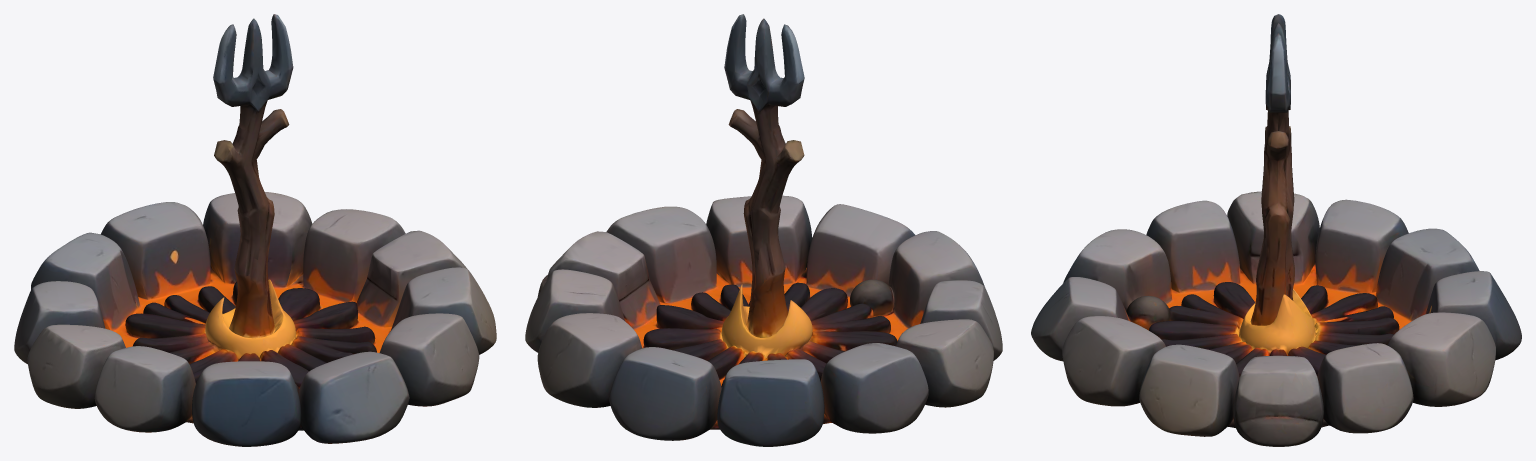
The model's file is goblinfire.opt.glb.
The picture shows the model from 3 angles, left to right: view 1: azimuth 30°, elevation 25°; view 2: azimuth 150°, elevation 25°; view 3: azimuth 270°, elevation 25°; orthographic projection. The views are drawn at different scales.
Parts seen in each view (by area): view 1: node_0; view 2: node_0; view 3: node_0.
Part boxes in pixels (x1=…): node_0: x1=14, y1=14, x2=496, y2=446; node_0: x1=525, y1=14, x2=1002, y2=446; node_0: x1=1031, y1=14, x2=1521, y2=446.
Size of the model in its own units: 0.9804 by 0.7109 by 0.9801.
Materials: 1 (1 with a texture image).
